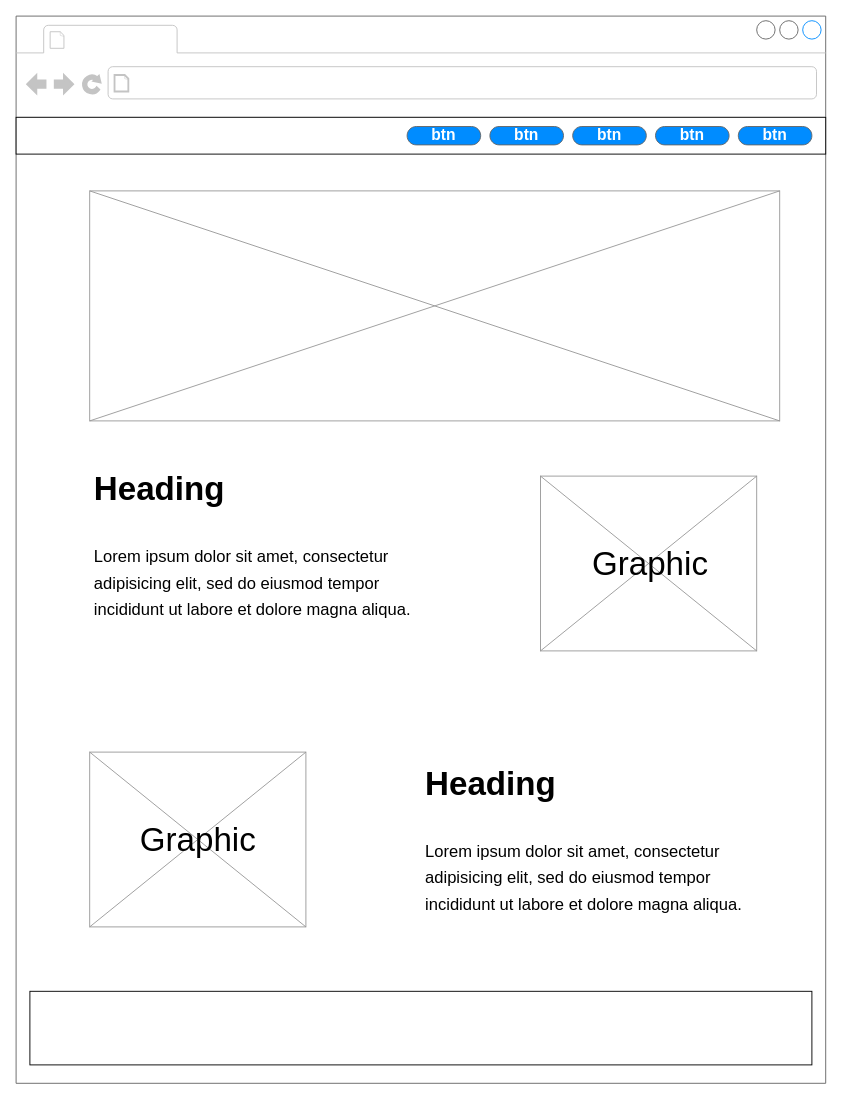
The diagram is 842 pixels wide and 1099 high, and some of its shapes have lost their labels. The centre of each missing label's shape, as x and y in pixels:
Footer: point 420,1027
HomePage: point 121,38
Image Slider: point 434,305
www.mywebsite.com: point 250,82
